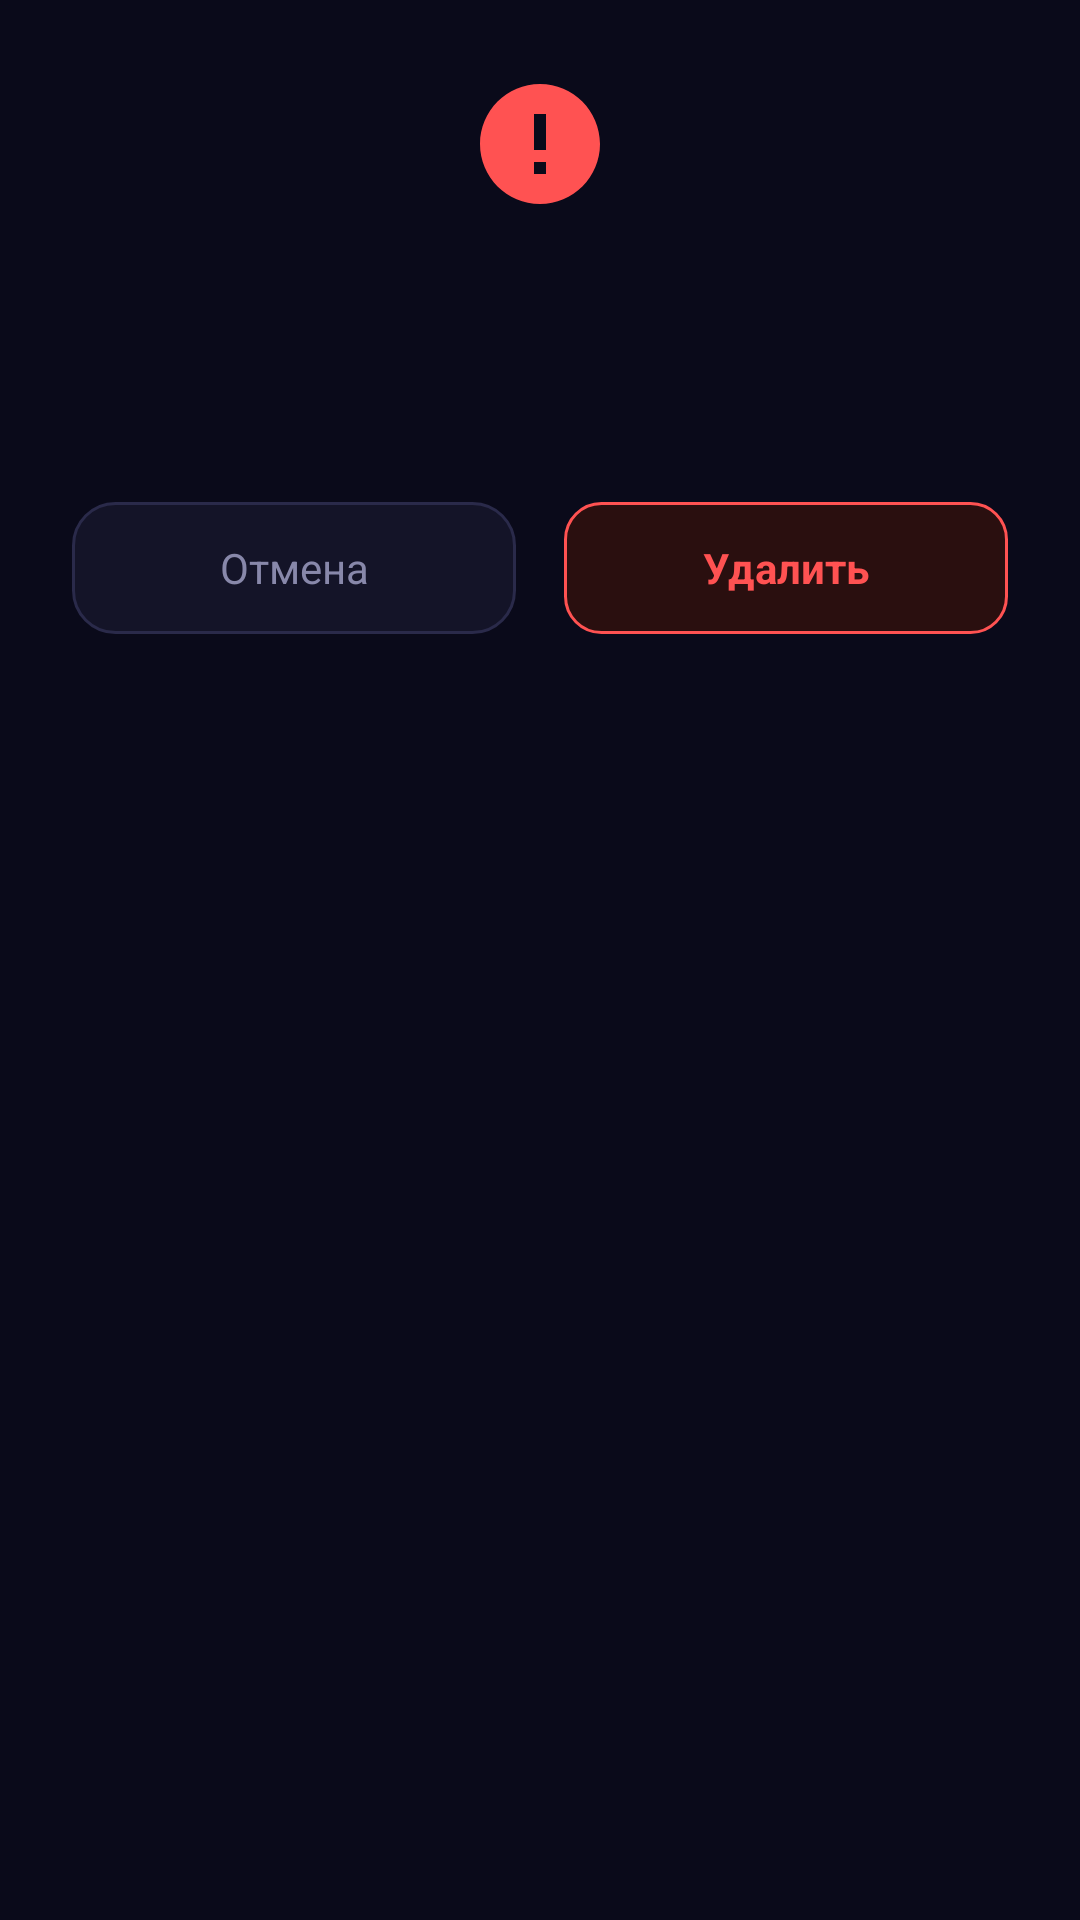

Icons on this 1080w x 1920h Android screen, each with the point to tap as point (x, y):
warning: point (540, 144)
